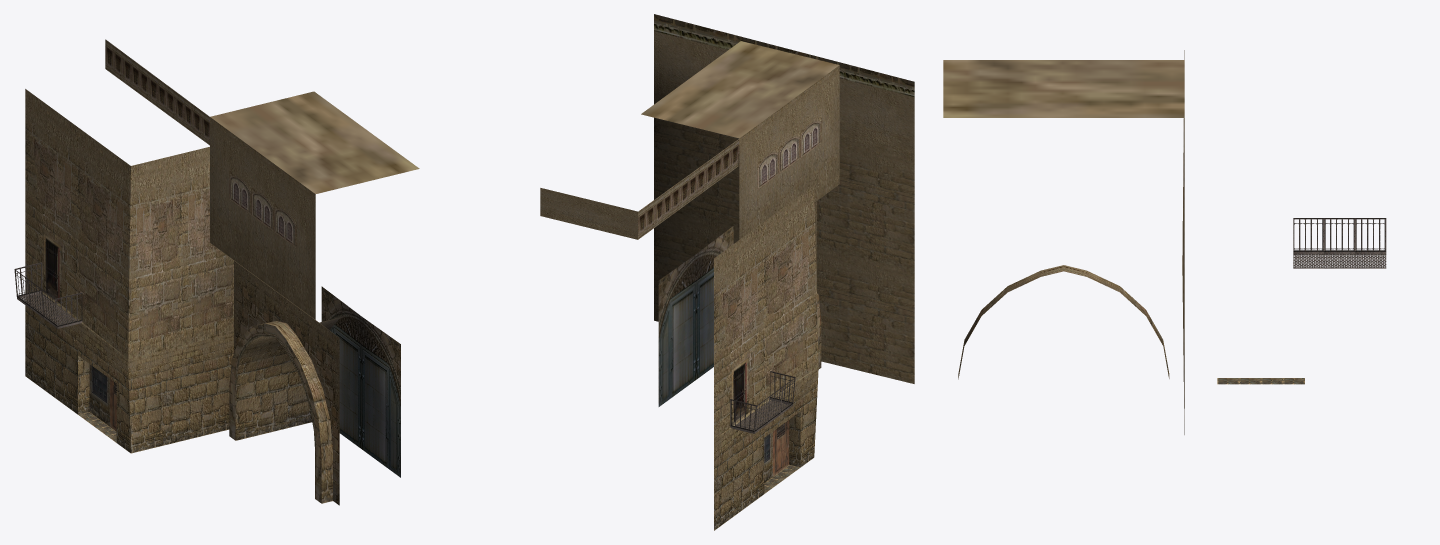
Rendered from M7Z1_CityWall4A2.glb.
The picture shows the model from 3 angles, left to right: view 1: azimuth 30°, elevation 25°; view 2: azimuth 150°, elevation 25°; view 3: azimuth 270°, elevation 25°; orthographic projection. The views are drawn at different scales.
Visible parts, largest first — view 1: M7Z1_CITYWALL4A2; view 2: M7Z1_CITYWALL4A2; view 3: M7Z1_CITYWALL4A2.
Boxes of the visible parts, x1,y1,x2,y2 form: M7Z1_CITYWALL4A2: [14, 39, 419, 505]; M7Z1_CITYWALL4A2: [540, 14, 914, 530]; M7Z1_CITYWALL4A2: [943, 50, 1386, 434].
Size of the model in its own units: 13.22 by 13.5 by 16.
Materials: 14 (14 with a texture image).
